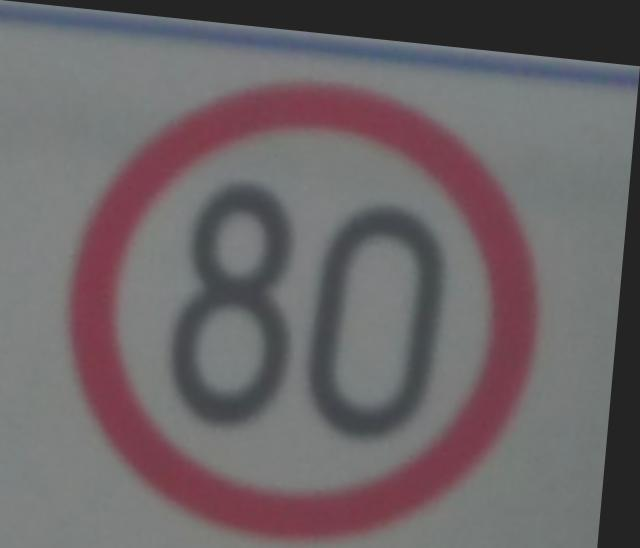limit80: (53, 49, 567, 548)
